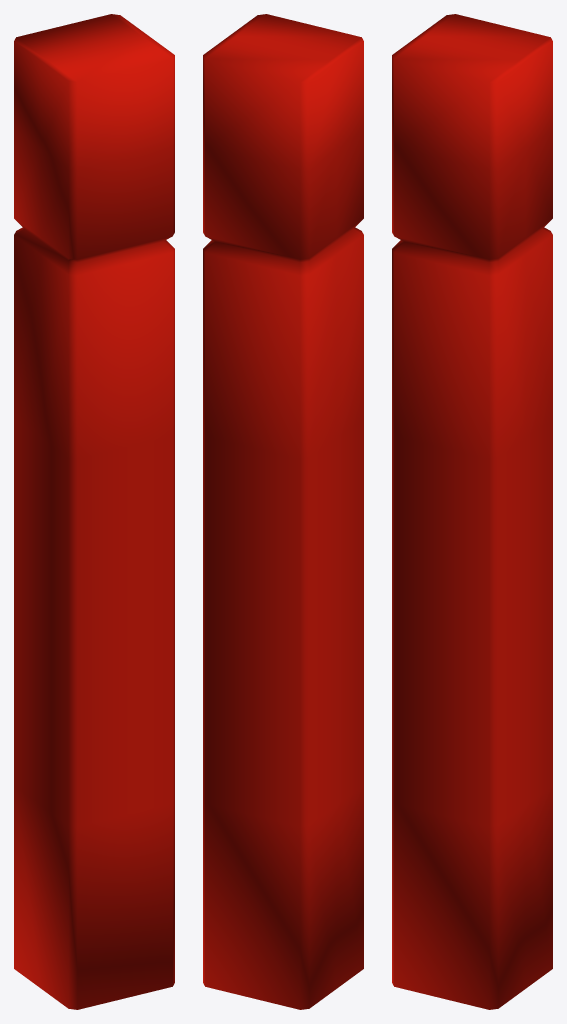
Rendered from IndBuilding1_Deco_IntColumn_Mid.fbx.
3 renders of one model, left to right at view 1: azimuth 30°, elevation 25°; view 2: azimuth 150°, elevation 25°; view 3: azimuth 330°, elevation 25°, orthographic.
Parts seen in each view (by area): view 1: IndBuilding1_Deco_IntColumn_Mid; view 2: IndBuilding1_Deco_IntColumn_Mid; view 3: IndBuilding1_Deco_IntColumn_Mid.
Part boxes in pixels (<box>): IndBuilding1_Deco_IntColumn_Mid: <box>14,14,174,1009</box>; IndBuilding1_Deco_IntColumn_Mid: <box>203,14,363,1009</box>; IndBuilding1_Deco_IntColumn_Mid: <box>392,14,552,1009</box>.
Bounding box in the file's own units: 0.6 × 5 × 0.6.
